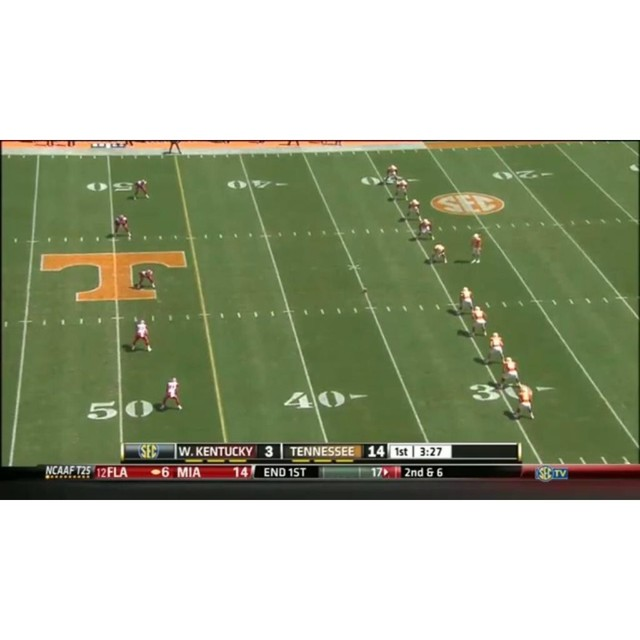american-football-player: (508, 383, 535, 420), (128, 318, 152, 352), (160, 376, 182, 411), (500, 356, 521, 389), (487, 332, 506, 364), (110, 214, 132, 241), (470, 305, 488, 337), (426, 243, 448, 266), (129, 179, 151, 202), (469, 232, 484, 265), (135, 268, 157, 289), (393, 177, 410, 201), (459, 285, 474, 312), (405, 198, 421, 220), (418, 218, 434, 240)
